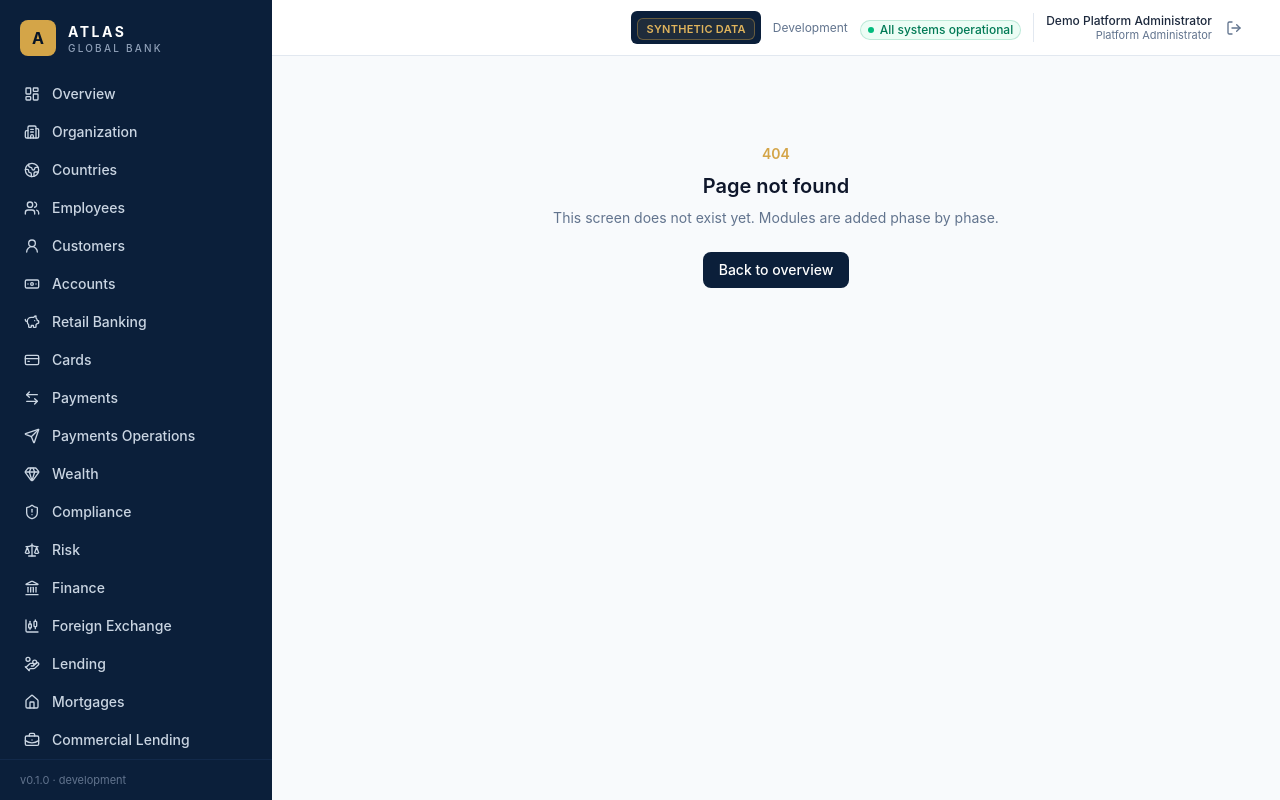
Test: Application shell › shows a not-found page for unknown routes and navigates back
The width and height of the screenshot is (1280, 800).
Check: the heading "Page not found" is shown, box [703,174,849,198]
Click the link "Back to overview" at (776, 270), box [703,252,849,288]
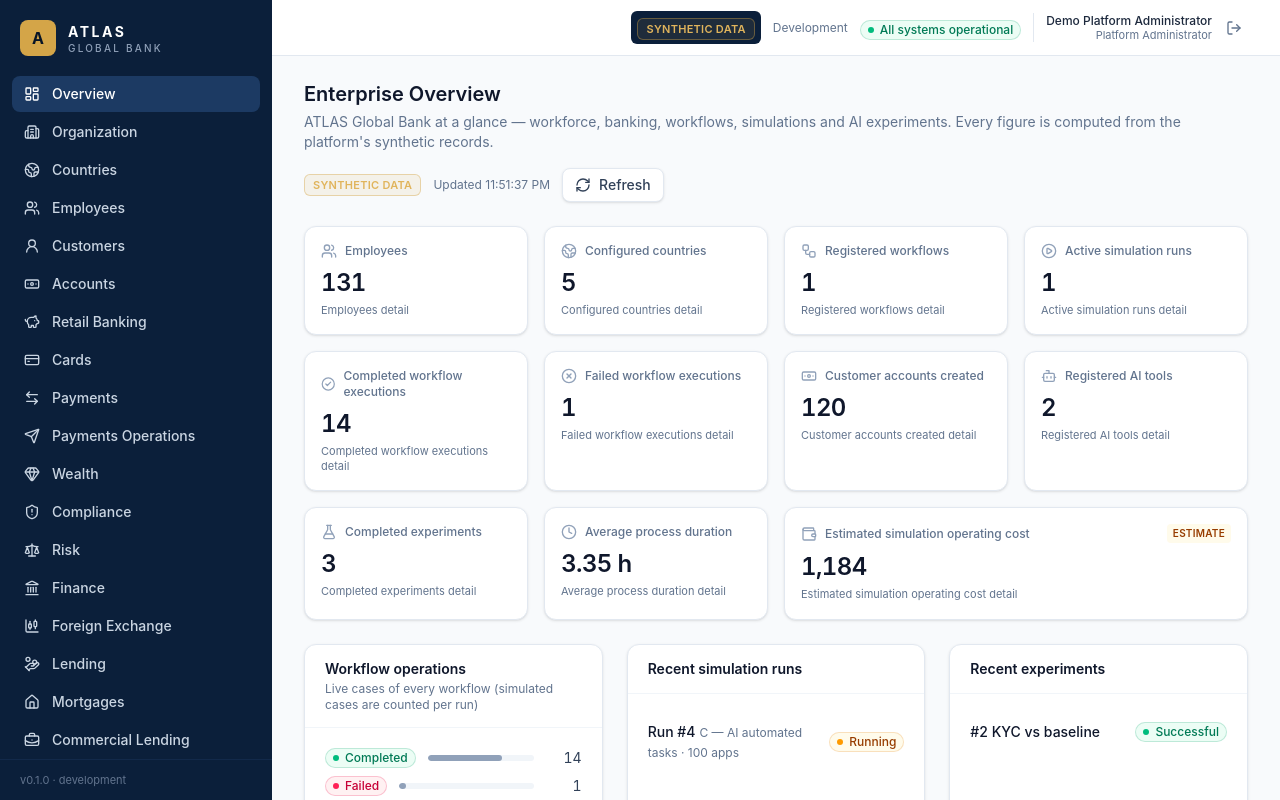
Check: the heading "Enterprise Overview" is shown, box [304,82,501,106]
